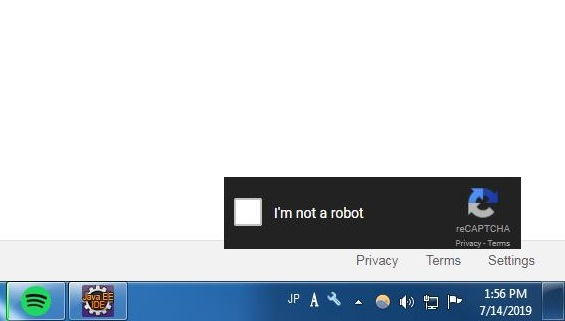captcha: (234, 197, 367, 226)
